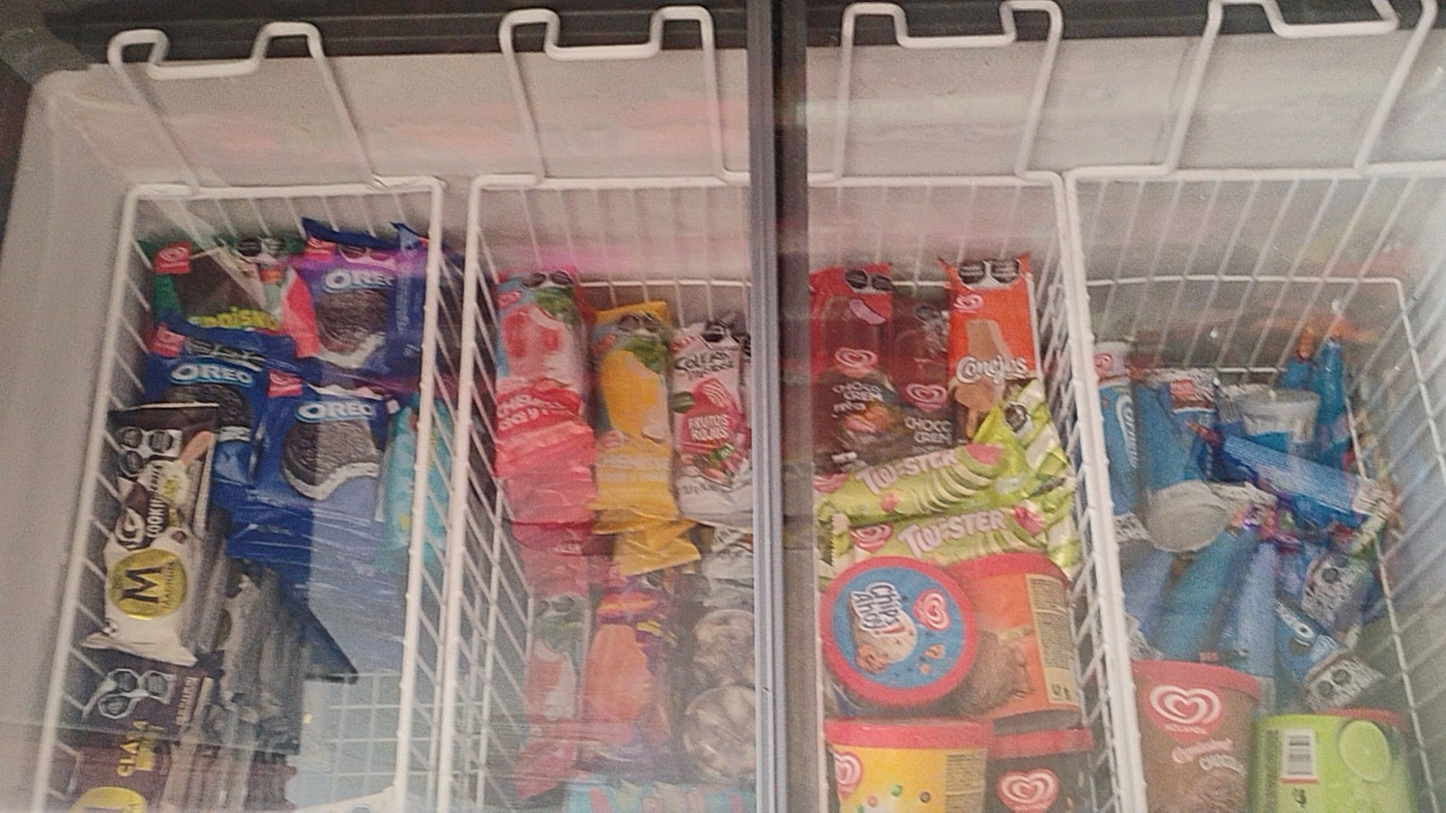rejilla: (31, 197, 134, 811), (1067, 184, 1144, 811), (1057, 184, 1131, 812), (395, 189, 441, 810), (442, 187, 480, 811), (205, 186, 371, 196), (1175, 170, 1358, 177), (840, 178, 1020, 184), (542, 178, 719, 184)
